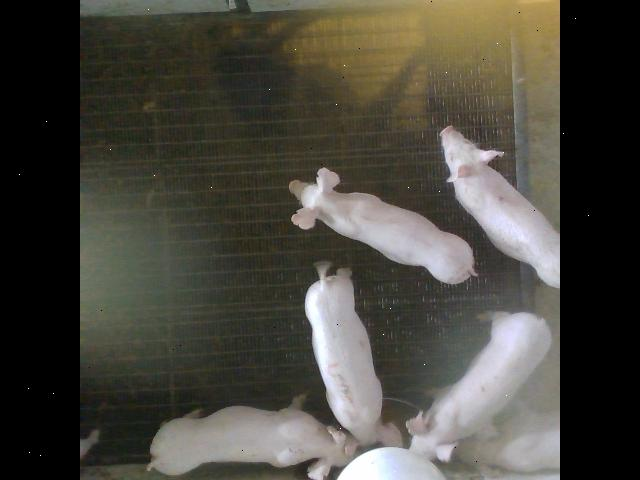pig-3: (305, 261, 402, 451)
